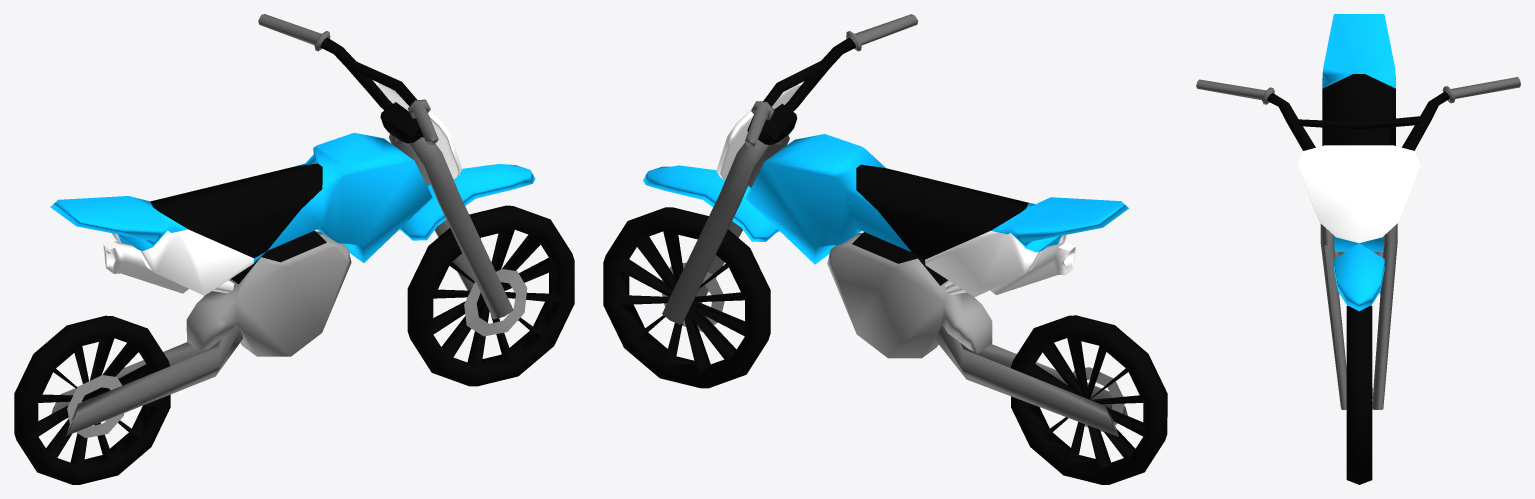
The model's file is DirtBike125ccLightBlue.glb.
3 views of the same model, side by side, from view 1: azimuth 30°, elevation 25°; view 2: azimuth 150°, elevation 25°; view 3: azimuth 270°, elevation 25° (orthographic). The views are drawn at different scales.
Visible parts, largest first — view 1: DirtBike125ccLightBlue; view 2: DirtBike125ccLightBlue; view 3: DirtBike125ccLightBlue.
Part boxes in pixels (bbox=[...]): DirtBike125ccLightBlue: bbox=[14, 14, 574, 484]; DirtBike125ccLightBlue: bbox=[603, 14, 1167, 484]; DirtBike125ccLightBlue: bbox=[1196, 14, 1520, 484].
Bounding box in the file's own units: 1.92 × 1.13 × 1.01.
Materials: 1 (1 with a texture image).
